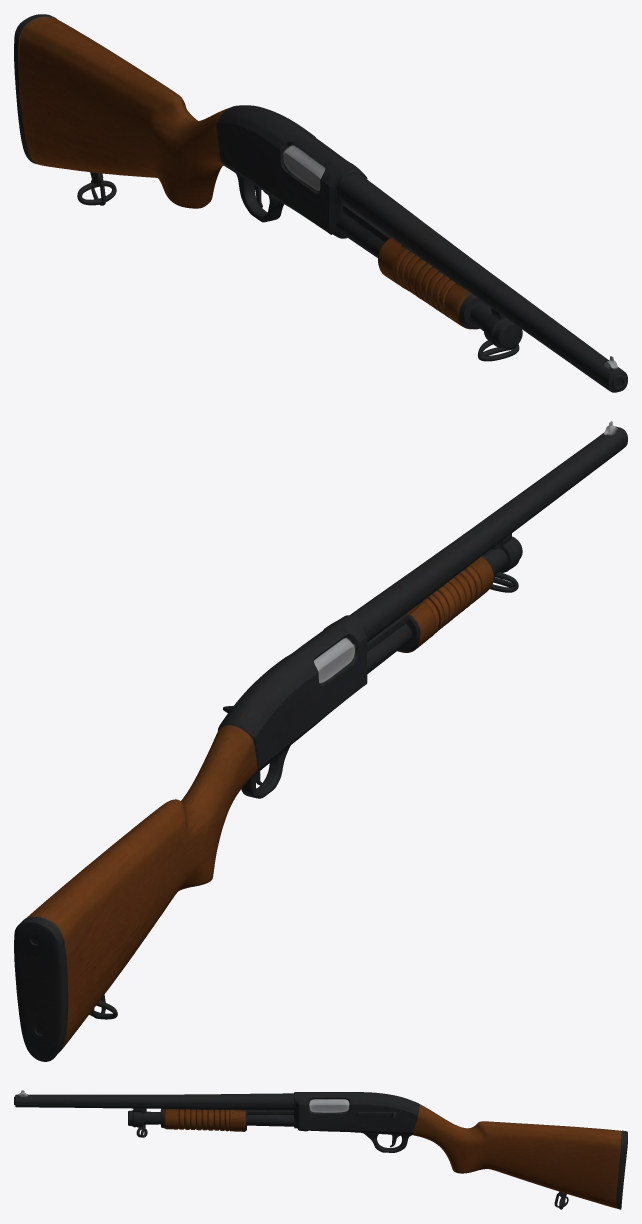
File: shotgun.glb
3 views of the same model, one above another, from view 1: azimuth 30°, elevation 25°; view 2: azimuth 150°, elevation 25°; view 3: azimuth 270°, elevation 25° (orthographic). The views are drawn at different scales.
Visible parts, largest first — view 1: model; view 2: model; view 3: model.
Boxes of the visible parts, x1,y1,x2,y2 form: model: (14,14,627,392); model: (14,421,627,1061); model: (14,1090,627,1209).
Size of the model in its own units: 0.1102 by 0.4025 by 1.9.
1 material, 1 textured.
